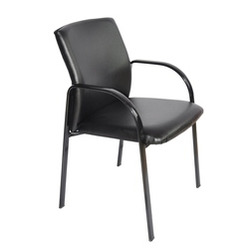chairs: (53, 13, 203, 244)
